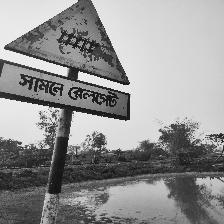Rail-crossing: (0, 0, 132, 120)
